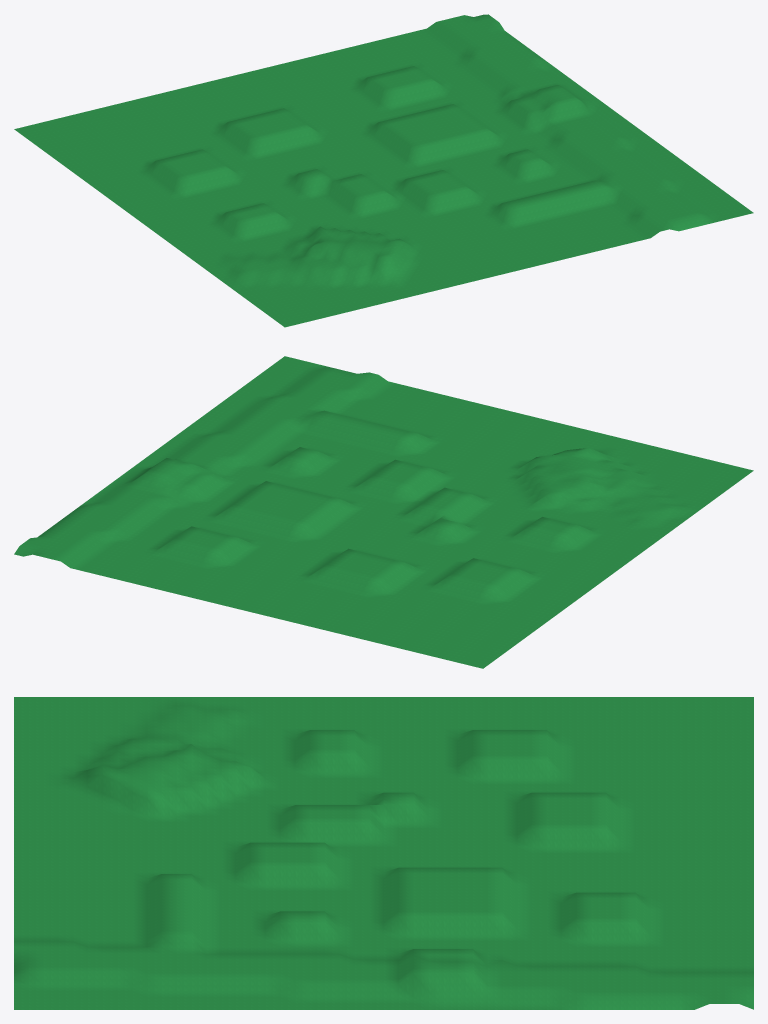
Rendered from ground2.obj.
The picture shows the model from 3 angles, top to bottom: view 1: azimuth 30°, elevation 25°; view 2: azimuth 150°, elevation 25°; view 3: azimuth 270°, elevation 25°; orthographic projection. The views are drawn at different scales.
Visible parts, largest first — view 1: Plane001; view 2: Plane001; view 3: Plane001.
Boxes of the visible parts, x1,y1,x2,y2 form: Plane001: [14, 14, 753, 327]; Plane001: [14, 356, 753, 668]; Plane001: [14, 697, 753, 1009].
Bounding box in the file's own units: 200 × 5.8 × 200.
1 material, 1 textured.
